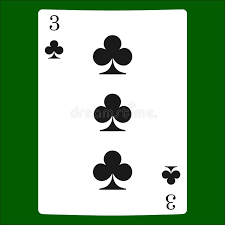three of clubs: (38, 11, 187, 213)
